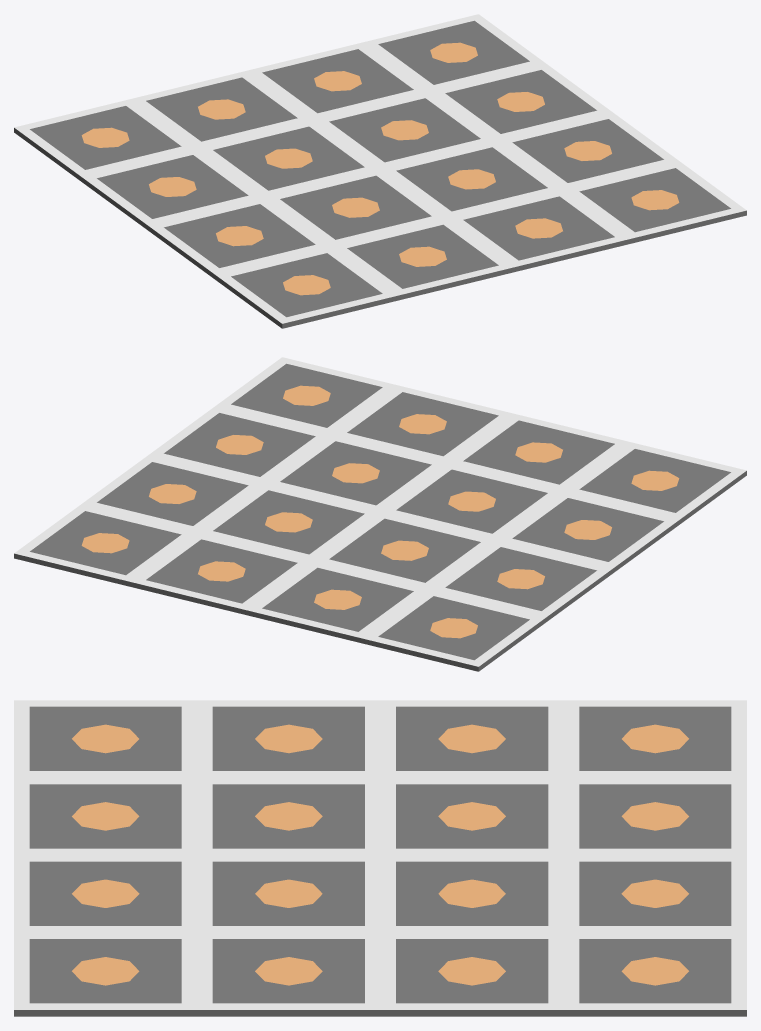
Rendered from Ground_30.fbx.
3 views of the same model, one above another, from view 1: azimuth 30°, elevation 25°; view 2: azimuth 150°, elevation 25°; view 3: azimuth 270°, elevation 25° (orthographic). The views are drawn at different scales.
Parts seen in each view (by area): view 1: Ground_30; view 2: Ground_30; view 3: Ground_30.
Part boxes in pixels (left/top/right/bottom): Ground_30: left=14, top=14, right=746, bottom=328; Ground_30: left=14, top=357, right=746, bottom=671; Ground_30: left=14, top=700, right=746, bottom=1016.
Bounding box in the file's own units: 3.61 × 0.0368 × 3.61.
